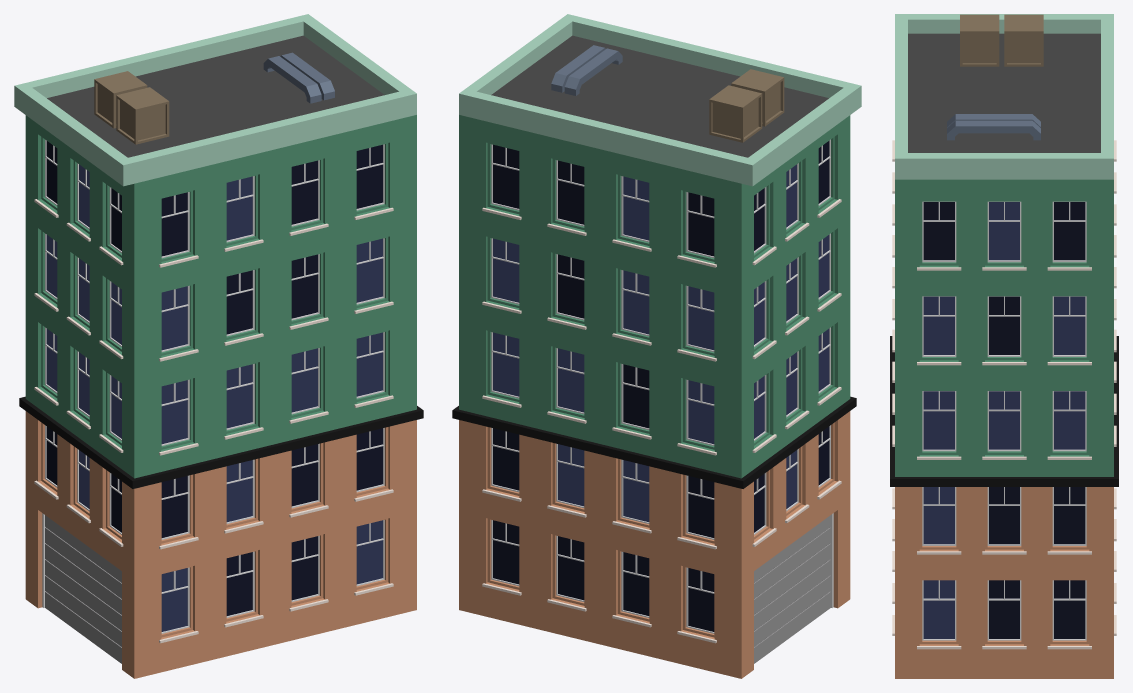
File: building2.glb
3 renders of one model, left to right at view 1: azimuth 30°, elevation 25°; view 2: azimuth 150°, elevation 25°; view 3: azimuth 270°, elevation 25°, orthographic.
Visible parts, largest first — view 1: SM_Bulding_T17_0; view 2: SM_Bulding_T17_0; view 3: SM_Bulding_T17_0.
Boxes of the visible parts, x1,y1,x2,y2 form: SM_Bulding_T17_0: (14,14,423,678); SM_Bulding_T17_0: (452,14,861,678); SM_Bulding_T17_0: (890,14,1118,678).
Size of the model in its own units: 9.91 by 17.09 by 6.54.
Materials: 2 (2 with a texture image).
